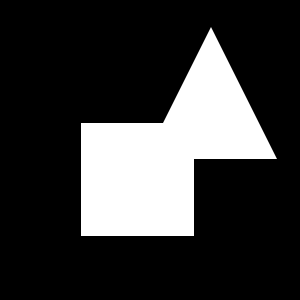circle: (81, 123, 194, 236)
triangle: (145, 27, 277, 159)
